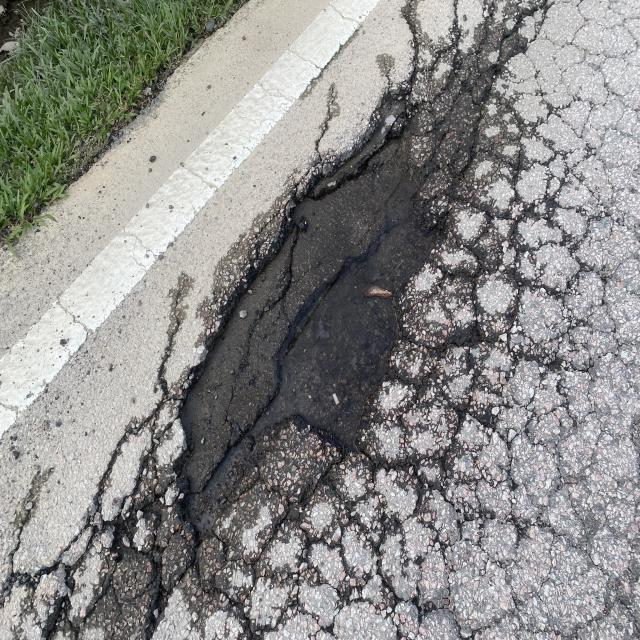Pothole: (121, 55, 521, 608)
